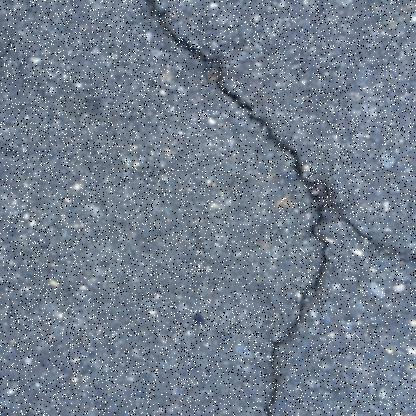Cracks: (147, 0, 415, 415)
